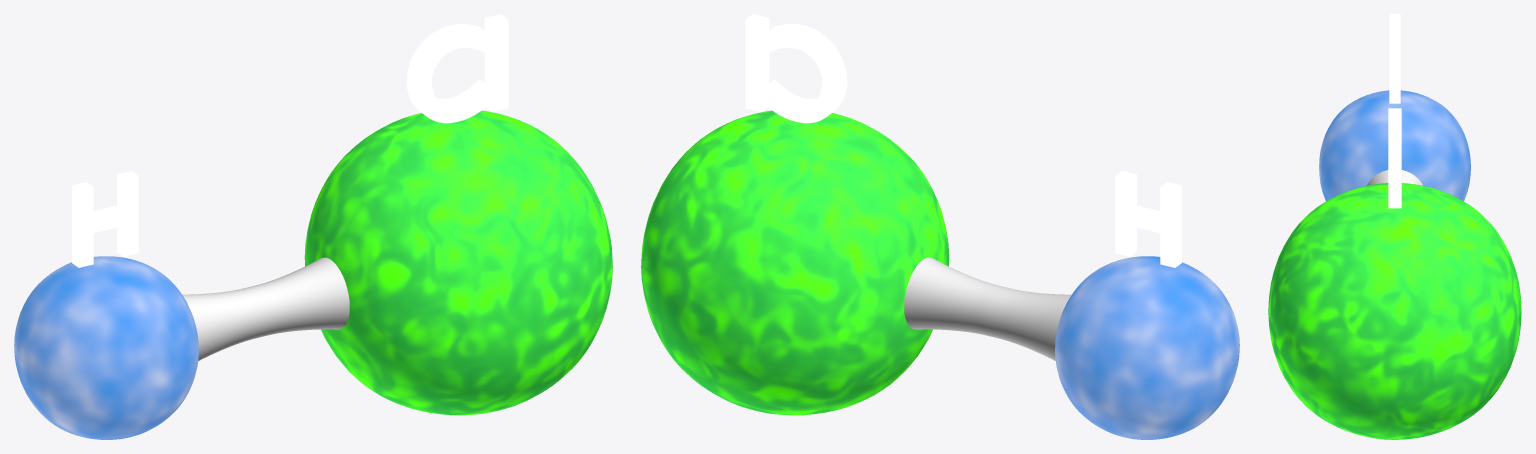
File: HCl.glb
3 renders of one model, left to right at view 1: azimuth 30°, elevation 25°; view 2: azimuth 150°, elevation 25°; view 3: azimuth 270°, elevation 25°, orthographic. The views are drawn at different scales.
Visible parts, largest first — view 1: Text.002, Text.003; view 2: Text.002, Text.003; view 3: Text.002, Text.003.
Boxes of the visible parts, box(x1,y1,x2,y2) form: Text.002: box(14, 110, 612, 439); Text.003: box(406, 14, 508, 123); Text.002: box(641, 110, 1239, 439); Text.003: box(745, 14, 847, 123); Text.002: box(1268, 14, 1521, 439); Text.003: box(1388, 108, 1401, 208).
Size of the model in its own units: 5.2 by 3.29 by 2.42.
4 materials, 2 textured.
